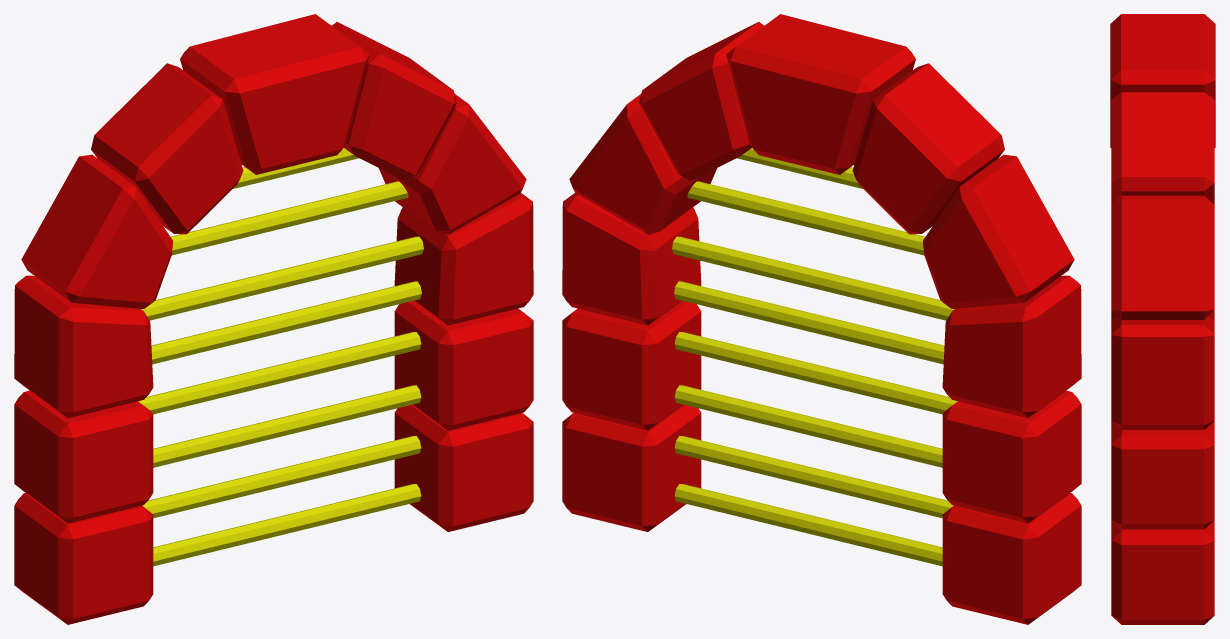
The model's file is gate.fbx.
3 renders of one model, left to right at view 1: azimuth 30°, elevation 25°; view 2: azimuth 150°, elevation 25°; view 3: azimuth 270°, elevation 25°, orthographic. The views are drawn at different scales.
Parts seen in each view (by area): view 1: pCylinder9; view 2: pCylinder9; view 3: pCylinder9.
Boxes of the visible parts, x1,y1,x2,y2 form: pCylinder9: (14,14,533,624); pCylinder9: (562,14,1081,624); pCylinder9: (1110,14,1215,624).
Size of the model in its own units: 5 by 5.1 by 1.02.
